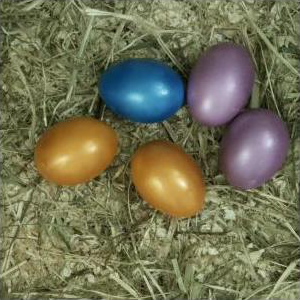egg: (130, 141, 206, 219), (98, 59, 187, 124), (219, 108, 290, 189), (34, 117, 118, 185), (188, 43, 255, 128)
